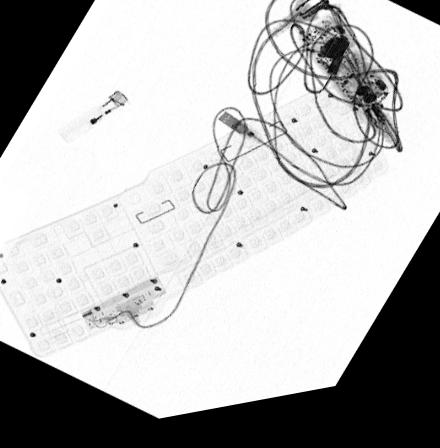Lighter: (55, 94, 128, 146)
